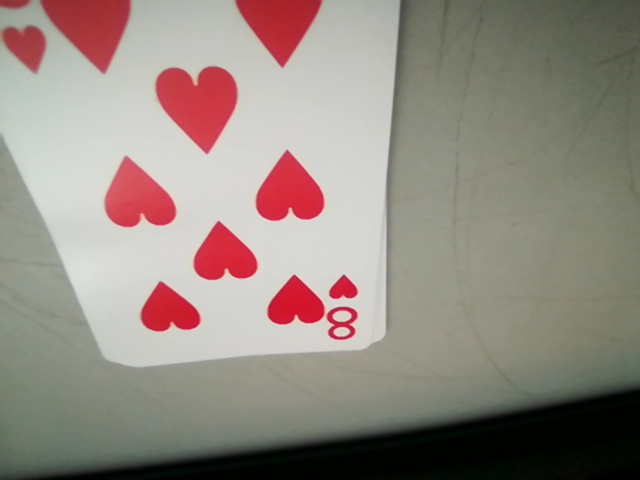hx 8: (325, 270, 365, 342)
